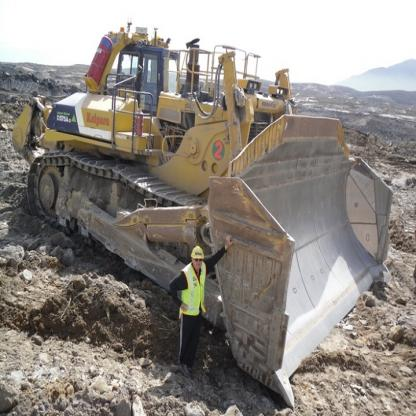bull_dozer/loader/grader: (14, 13, 398, 394)
